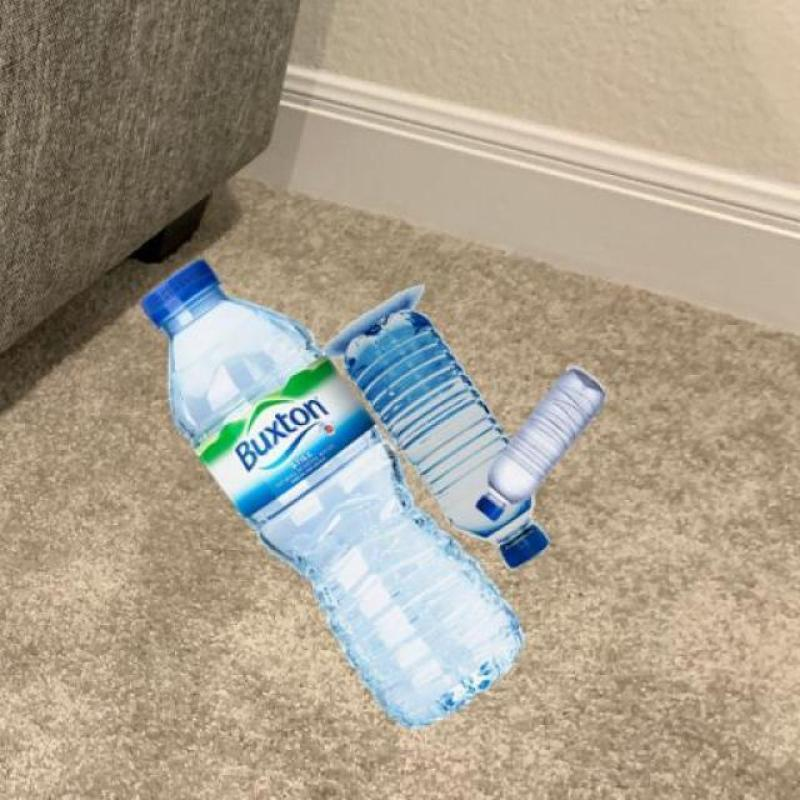botella: (135, 260, 523, 722), (342, 314, 546, 568), (480, 369, 604, 516)
